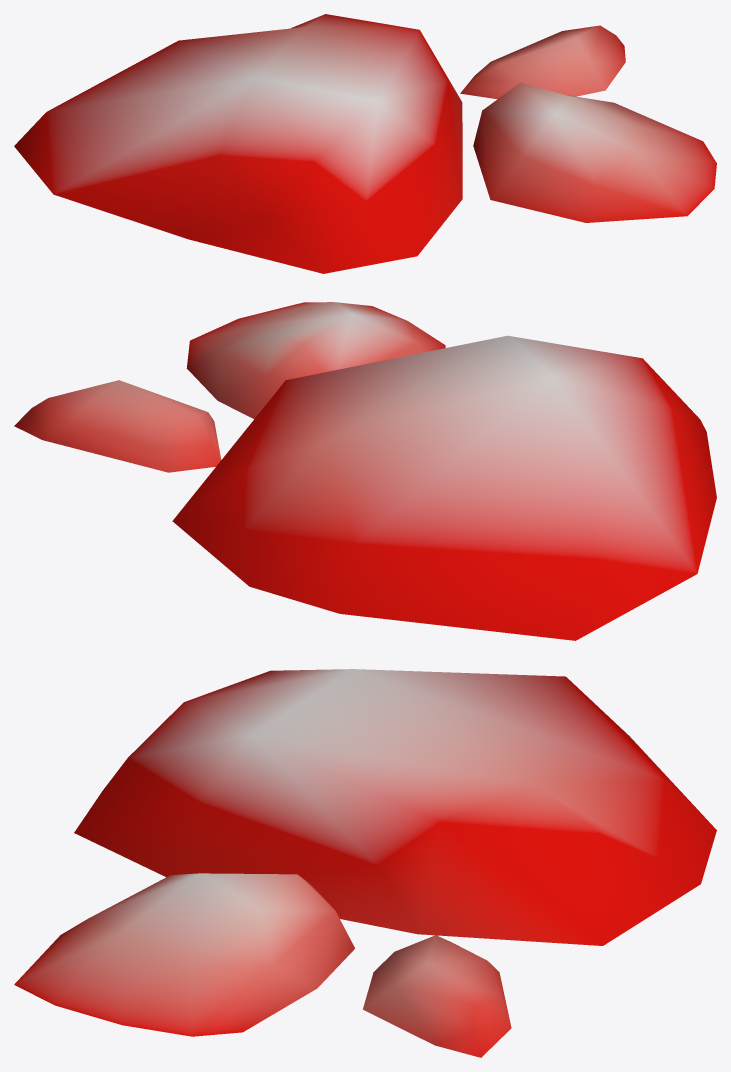
File: SM_Rock05.FBX
3 views of the same model, one above another, from view 1: azimuth 30°, elevation 25°; view 2: azimuth 150°, elevation 25°; view 3: azimuth 270°, elevation 25° (orthographic). The views are drawn at different scales.
Visible parts, largest first — view 1: SM_Rock05; view 2: SM_Rock05; view 3: SM_Rock05.
Boxes of the visible parts, x1,y1,x2,y2 form: SM_Rock05: (14,14,716,273); SM_Rock05: (14,302,716,640); SM_Rock05: (14,669,716,1057).
Bounding box in the file's own units: 38.43 × 32.24 × 7.4.
